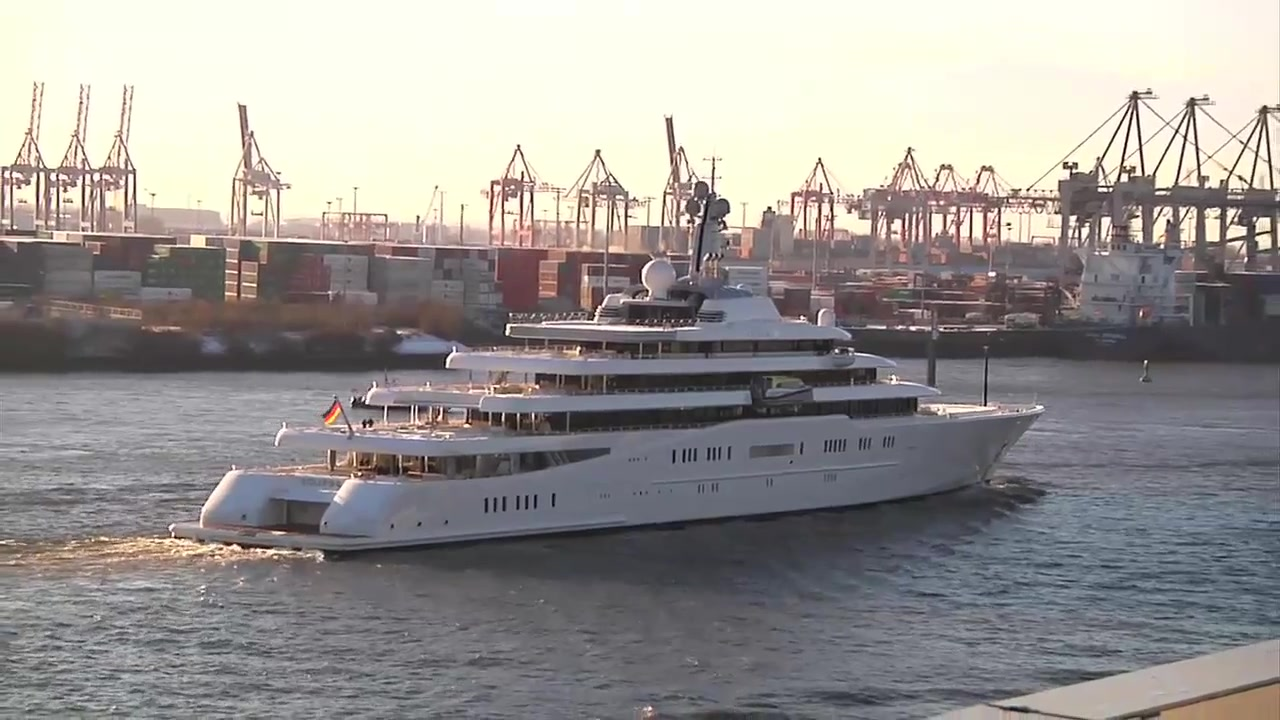boat: (170, 179, 1043, 562)
